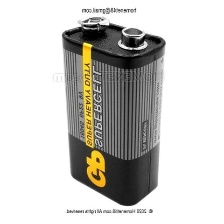battery: (57, 14, 169, 209)
